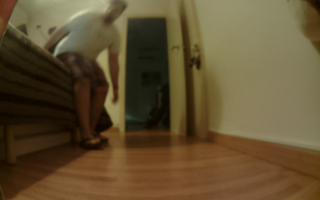person: (50, 1, 132, 152)
